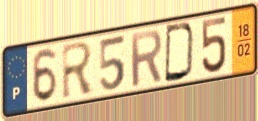5: (98, 33, 127, 93), (200, 14, 228, 76)
6: (30, 46, 58, 105)
D: (163, 22, 197, 85)
R: (128, 27, 164, 90), (61, 39, 96, 102)
